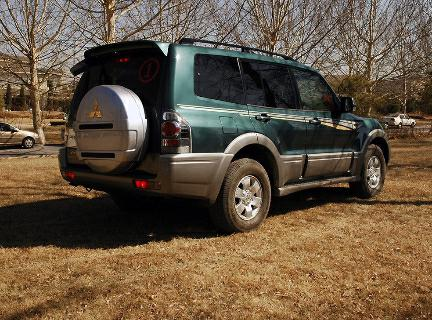三菱-帕杰罗: (52, 34, 397, 237)
